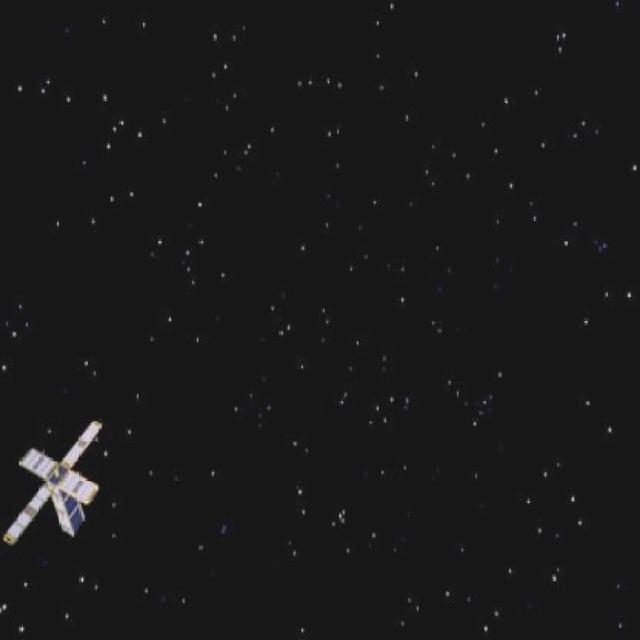medium_debris: (4, 419, 111, 562)
